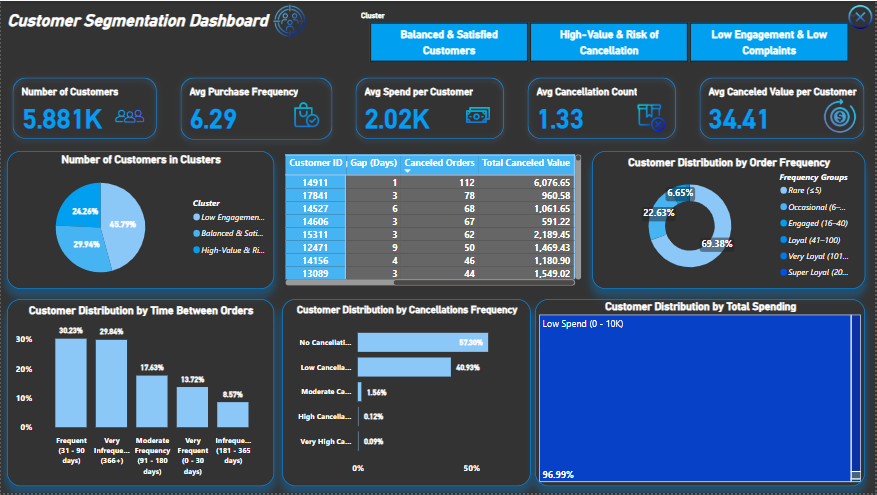

This screenshot's page, from the dashboard's own definition file:
{"tool":"powerbi","page":{"name":"Page 1","canvas":[1280,720],"ordinal":0},"visuals":[{"type":"textbox","box":[0,10.2,399.5,36.6],"z":0},{"type":"slicer","fields":{"Values":["Sheet1.Cluster"]},"box":[513.7,10.2,750.7,84.9],"z":1000},{"type":"image","box":[386.3,0,73.2,58.5],"z":2000},{"type":"cardVisual","fields":{"Data":["Count(Sheet1.Customer ID)"]},"box":[0,95.1,245.9,124.4],"z":3000},{"type":"cardVisual","fields":{"Data":["Avg(Sheet1.Frequency)"]},"box":[246.1,94.8,256.1,125],"z":4000},{"type":"cardVisual","fields":{"Data":["Avg(Sheet1.Monetary)"]},"box":[502,95.1,251.7,124.4],"z":5000},{"type":"cardVisual","fields":{"Data":["Avg(Sheet1.CFrequency)"]},"box":[753.7,95.1,251.7,124.4],"z":6000},{"type":"cardVisual","fields":{"Data":["Avg(Sheet1.CMonetary)"]},"box":[1005.4,95.1,275.1,124.4],"z":7000},{"type":"pieChart","title":"Number of Customers in Clusters","fields":{"Category":["Sheet1.Cluster"],"Y":["CountNonNull(Sheet1.Customer ID)"]},"box":[8.8,219.5,390.7,202],"z":8000},{"type":"pivotTable","title":"Number of Customers in Clusters","fields":{"Values":["Sum(Sheet1.Frequency)","Sum(Sheet1.Monetary)","Sum(Sheet1.Interpurchase_Time)","Sum(Sheet1.CFrequency)","Sum(Sheet1.CMonetary)"],"Rows":["Sheet1.Customer ID"]},"box":[411.2,219.5,443.4,202],"z":9000},{"type":"donutChart","title":"Customer Distribution by Order Frequency","fields":{"Category":["Sheet1.Frequency Groups"],"Y":["Count(Sheet1.Customer ID)"]},"box":[864.9,219.5,399.5,202],"z":10000},{"type":"columnChart","title":"Customer Distribution by Cancellations Frequency","fields":{"Category":["Sheet1.CFrequency Group"],"Y":["Divide(Count(Sheet1.Customer ID), ScopedEval(Count(Sheet1.Customer ID), []))"]},"box":[431.7,436.1,390.7,273.7],"z":11000},{"type":"image","box":[1235.1,0,45.4,46.8],"z":12000},{"type":"image","box":[160,137.8,57.8,61.1],"z":13000},{"type":"image","box":[422.2,142.2,48.9,48.9],"z":14000},{"type":"image","box":[674.4,143.3,46.7,46.7],"z":15000},{"type":"image","box":[925.6,142.2,54.4,57.8],"z":16000},{"type":"image","box":[1191.2,137.6,73.2,61.5],"z":17000},{"type":"barChart","title":"Customer Distribution by Total Spending","fields":{"Y":["Count(Sheet1.Customer ID)"],"Category":["Sheet1.Monetary Group"]},"box":[831.2,436.1,433.2,273.7],"z":18000},{"type":"actionButton","box":[0,0,100,40],"z":19000},{"type":"barChart","title":"Customer Distribution by Time Between Orders","fields":{"Y":["Count(Sheet1.Customer ID)"],"Category":["Sheet1.Interpurchase Time Group"]},"box":[8.8,436.1,414.1,273.7],"z":20000}]}

Visuals, with their boxes in screenshot pixels (x1, y1, x2, y2), scaled from the page's 1280x720 canvas onto the 877x495 screenshot:
textbox: bbox(0, 7, 274, 32)
slicer - Sheet1.Cluster: bbox(352, 7, 866, 65)
image: bbox(265, 0, 315, 40)
cardVisual - Count(Sheet1.Customer ID): bbox(0, 65, 168, 151)
cardVisual - Avg(Sheet1.Frequency): bbox(169, 65, 344, 151)
cardVisual - Avg(Sheet1.Monetary): bbox(344, 65, 516, 151)
cardVisual - Avg(Sheet1.CFrequency): bbox(516, 65, 689, 151)
cardVisual - Avg(Sheet1.CMonetary): bbox(689, 65, 876, 151)
"Number of Customers in Clusters" pieChart: bbox(6, 151, 274, 290)
"Number of Customers in Clusters" pivotTable: bbox(282, 151, 586, 290)
"Customer Distribution by Order Frequency" donutChart: bbox(593, 151, 866, 290)
"Customer Distribution by Cancellations Frequency" columnChart: bbox(296, 300, 563, 488)
image: bbox(846, 0, 876, 32)
image: bbox(110, 95, 149, 137)
image: bbox(289, 98, 323, 131)
image: bbox(462, 99, 494, 131)
image: bbox(634, 98, 671, 138)
image: bbox(816, 95, 866, 137)
"Customer Distribution by Total Spending" barChart: bbox(570, 300, 866, 488)
actionButton: bbox(0, 0, 69, 28)
"Customer Distribution by Time Between Orders" barChart: bbox(6, 300, 290, 488)
